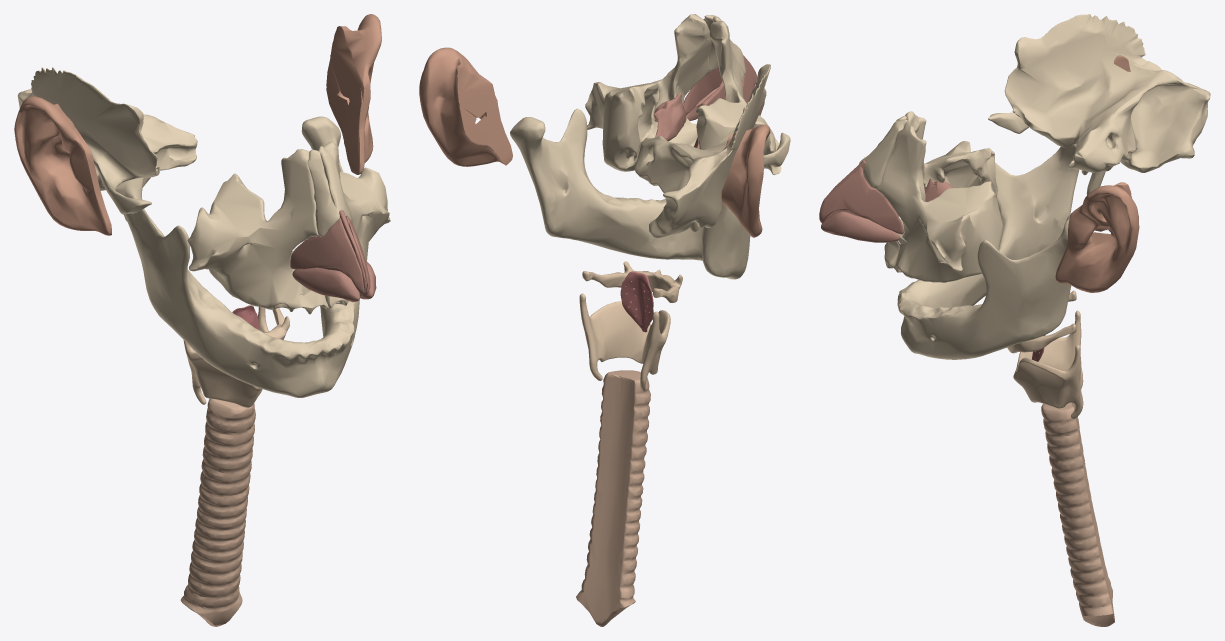
The model's file is ent-airways.glb.
3 renders of one model, left to right at view 1: azimuth 30°, elevation 25°; view 2: azimuth 150°, elevation 25°; view 3: azimuth 270°, elevation 25°, orthographic. The views are drawn at different scales.
Visible parts, largest first — view 1: FJ3269 · bone organ; FJ3272 · bone organ; FJ3289 · bone orga, FJ2811 · subdivision of head, FJ2541 · trachea, FJ2554 · cartilage organ; FJ2555 · cartilage organ; FJ2556 ·, FJ2772 · bone organ; FJ2808 · thyroid cartilage; FJ3201 · bo; view 2: FJ3269 · bone organ; FJ3272 · bone organ; FJ3289 · bone orga, FJ2541 · trachea, FJ2811 · subdivision of head, FJ2772 · bone organ; FJ2808 · thyroid cartilage; FJ3201 · bo, FJ2554 · cartilage organ; FJ2555 · cartilage organ; FJ2556 ·, FJ2770 · anatomical cluster; view 3: FJ3269 · bone organ; FJ3272 · bone organ; FJ3289 · bone orga, FJ2541 · trachea, FJ2811 · subdivision of head, FJ2772 · bone organ; FJ2808 · thyroid cartilage; FJ3201 · bo, FJ2554 · cartilage organ; FJ2555 · cartilage organ; FJ2556 ·.
Part boxes in pixels (left/top/right/bottom): FJ3269 · bone organ; FJ3272 · bone organ; FJ3289 · bone orga: left=17, top=67, right=390, bottom=397; FJ2811 · subdivision of head: left=14, top=14, right=381, bottom=235; FJ2541 · trachea: left=180, top=398, right=255, bottom=626; FJ2554 · cartilage organ; FJ2555 · cartilage organ; FJ2556 ·: left=266, top=210, right=376, bottom=302; FJ2772 · bone organ; FJ2808 · thyroid cartilage; FJ3201 · bo: left=183, top=306, right=289, bottom=407; FJ3269 · bone organ; FJ3272 · bone organ; FJ3289 · bone orga: left=510, top=14, right=790, bottom=279; FJ2541 · trachea: left=576, top=370, right=650, bottom=626; FJ2811 · subdivision of head: left=419, top=47, right=770, bottom=237; FJ2772 · bone organ; FJ2808 · thyroid cartilage; FJ3201 · bo: left=579, top=261, right=682, bottom=391; FJ2554 · cartilage organ; FJ2555 · cartilage organ; FJ2556 ·: left=653, top=55, right=764, bottom=148; FJ2770 · anatomical cluster: left=620, top=271, right=653, bottom=332; FJ3269 · bone organ; FJ3272 · bone organ; FJ3289 · bone orga: left=859, top=14, right=1210, bottom=359; FJ2541 · trachea: left=1041, top=402, right=1114, bottom=626; FJ2811 · subdivision of head: left=1055, top=55, right=1139, bottom=292; FJ2772 · bone organ; FJ2808 · thyroid cartilage; FJ3201 · bo: left=1007, top=290, right=1083, bottom=418; FJ2554 · cartilage organ; FJ2555 · cartilage organ; FJ2556 ·: left=819, top=160, right=959, bottom=242.
Size of the model in its own units: 2.11 by 3.35 by 2.18.
